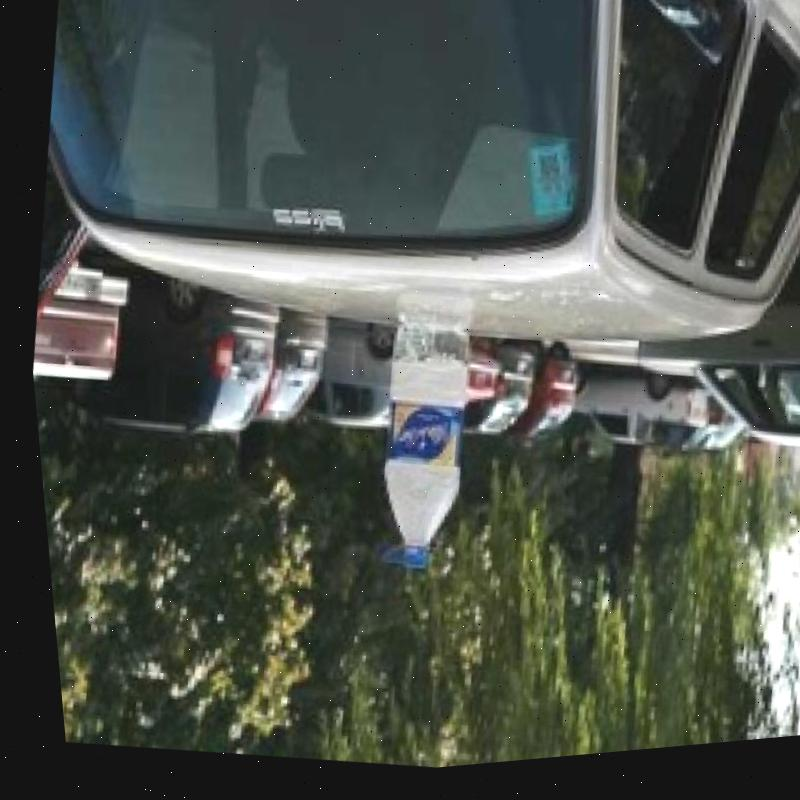botella: (346, 313, 487, 582)
